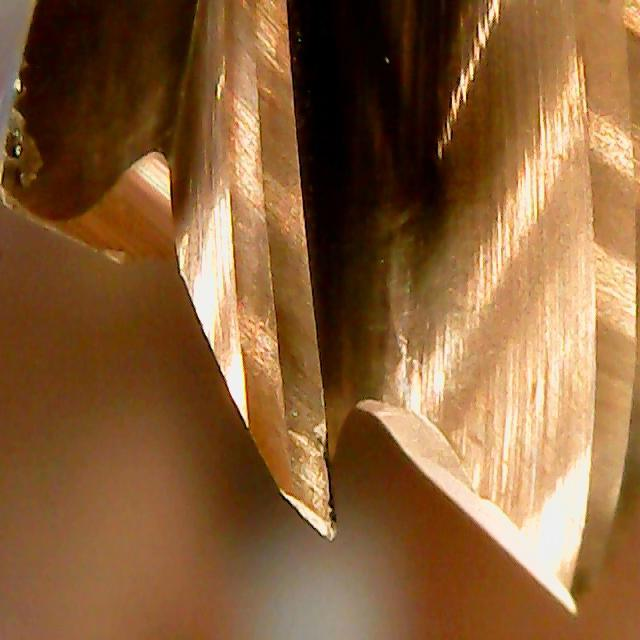Tool-wear-class-1: (224, 236, 355, 545)
